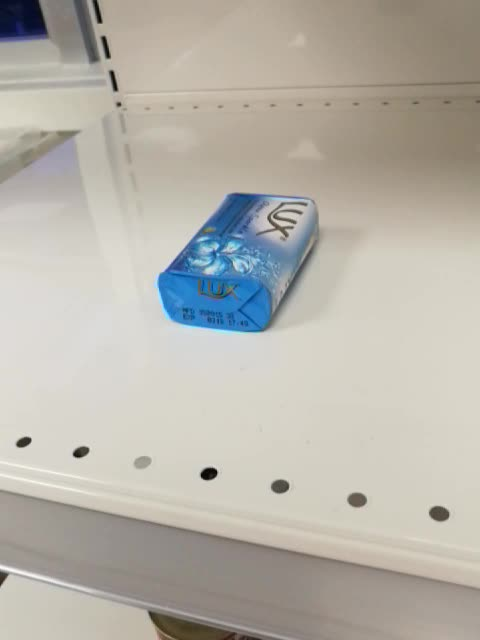soap: (157, 191, 321, 336)
